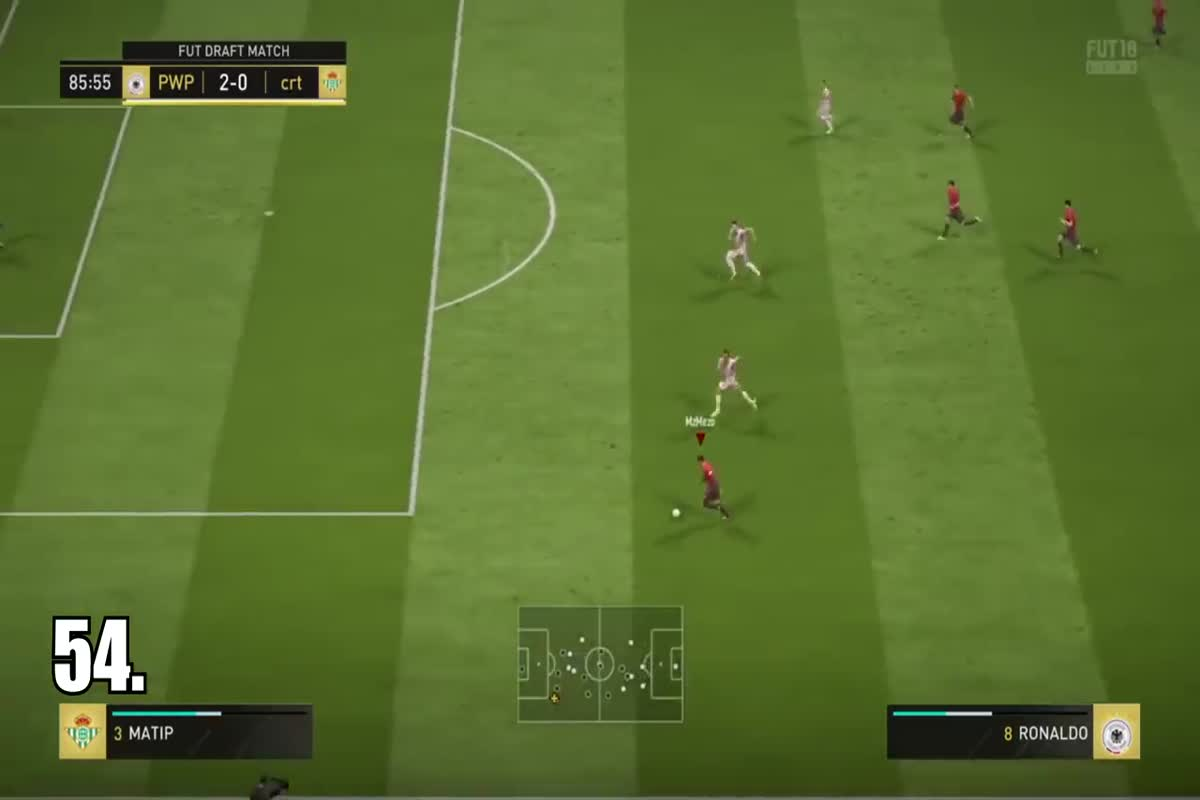ball: (661, 499, 687, 524)
